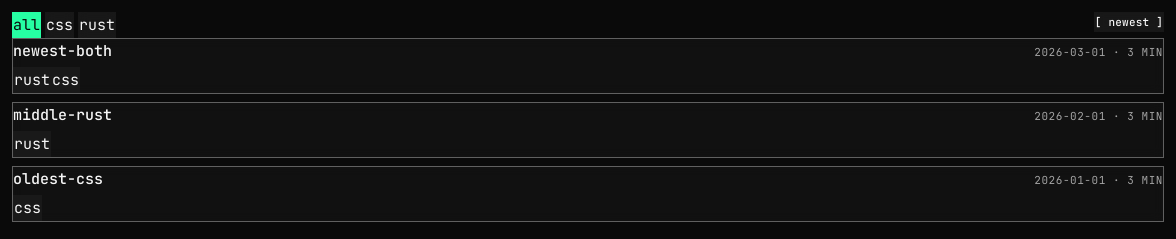
Scenario: PostFilter › returns to every post when the all chip is selected
What coordinates should you click on to do the following:
click the button "css"
I would click on:
 (60, 25)
Its box is [45, 12, 74, 38].
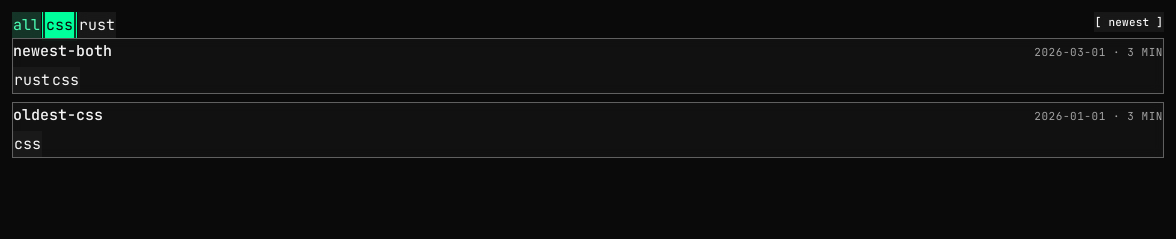
What coordinates should you click on to do the following:
click the button "all"
I would click on:
 (26, 25)
Its box is [12, 12, 41, 38].
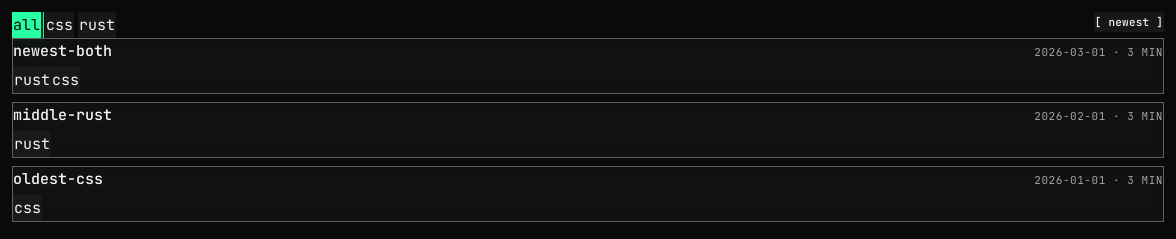
Expected: the number of headings is 3, [13, 39, 112, 63]; [13, 103, 112, 127]; [13, 167, 103, 191]
